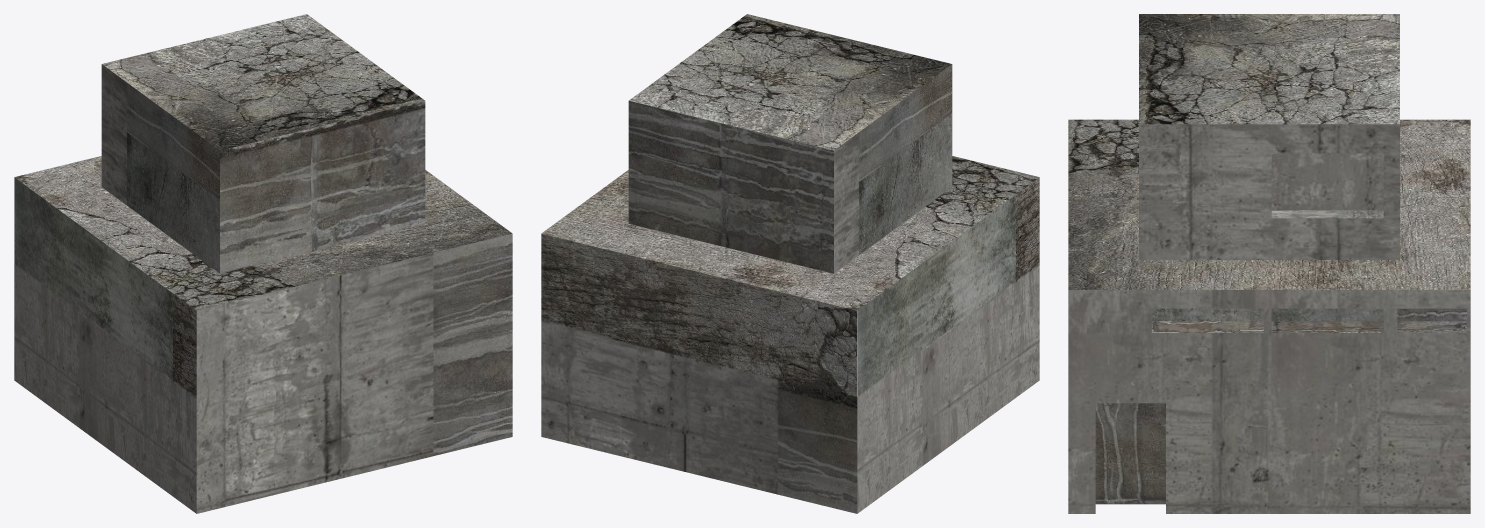
3 renders of one model, left to right at view 1: azimuth 30°, elevation 25°; view 2: azimuth 150°, elevation 25°; view 3: azimuth 270°, elevation 25°, orthographic. The views are drawn at different scales.
Parts seen in each view (by area): view 1: Cube.069; view 2: Cube.069; view 3: Cube.069.
Part boxes in pixels (left/top/right/bottom): Cube.069: left=14, top=14, right=512, bottom=513; Cube.069: left=541, top=14, right=1039, bottom=513; Cube.069: left=1068, top=14, right=1470, bottom=513.
Size of the model in its own units: 2 by 1.97 by 2.
1 material, 1 textured.
